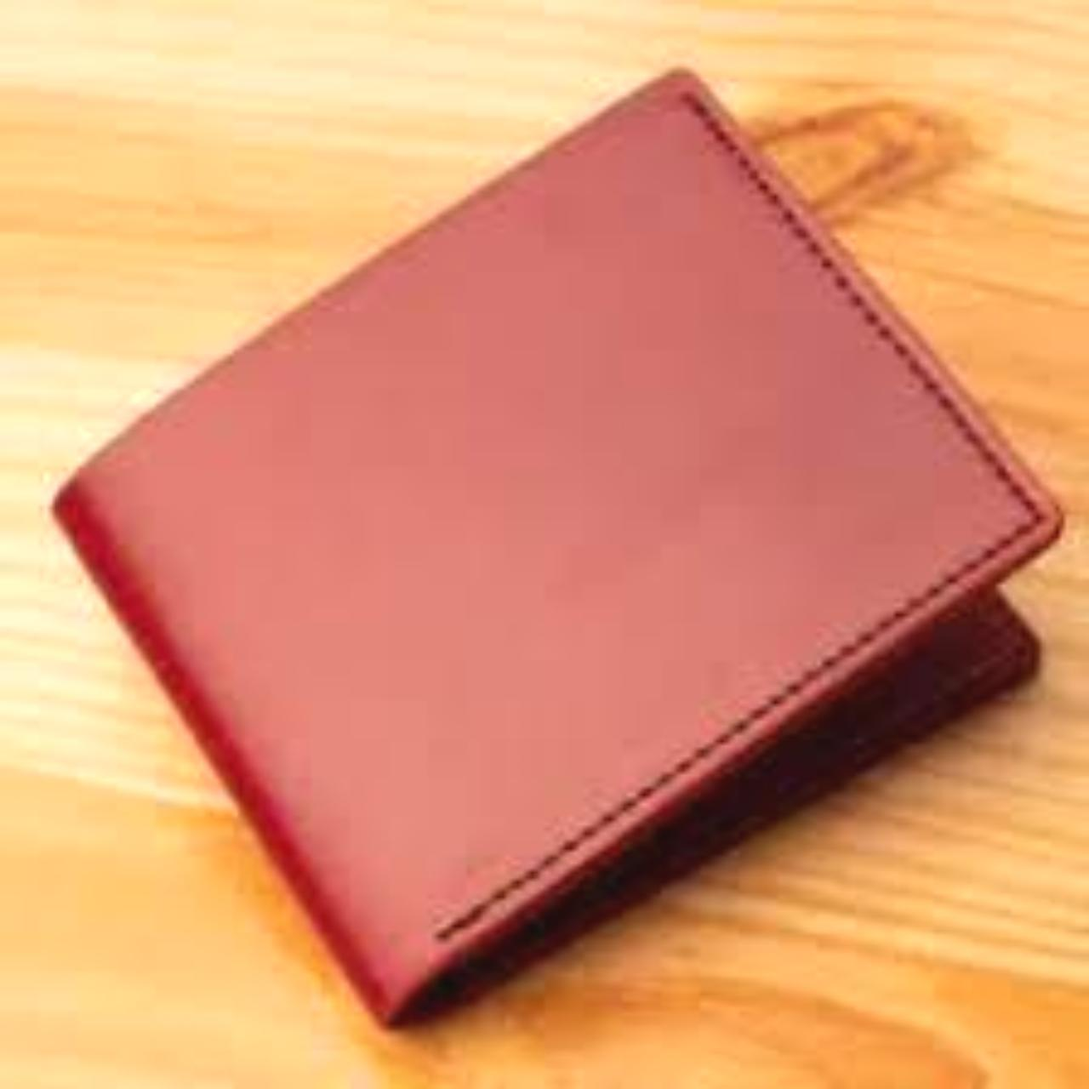wallet: (39, 42, 1089, 1023)
